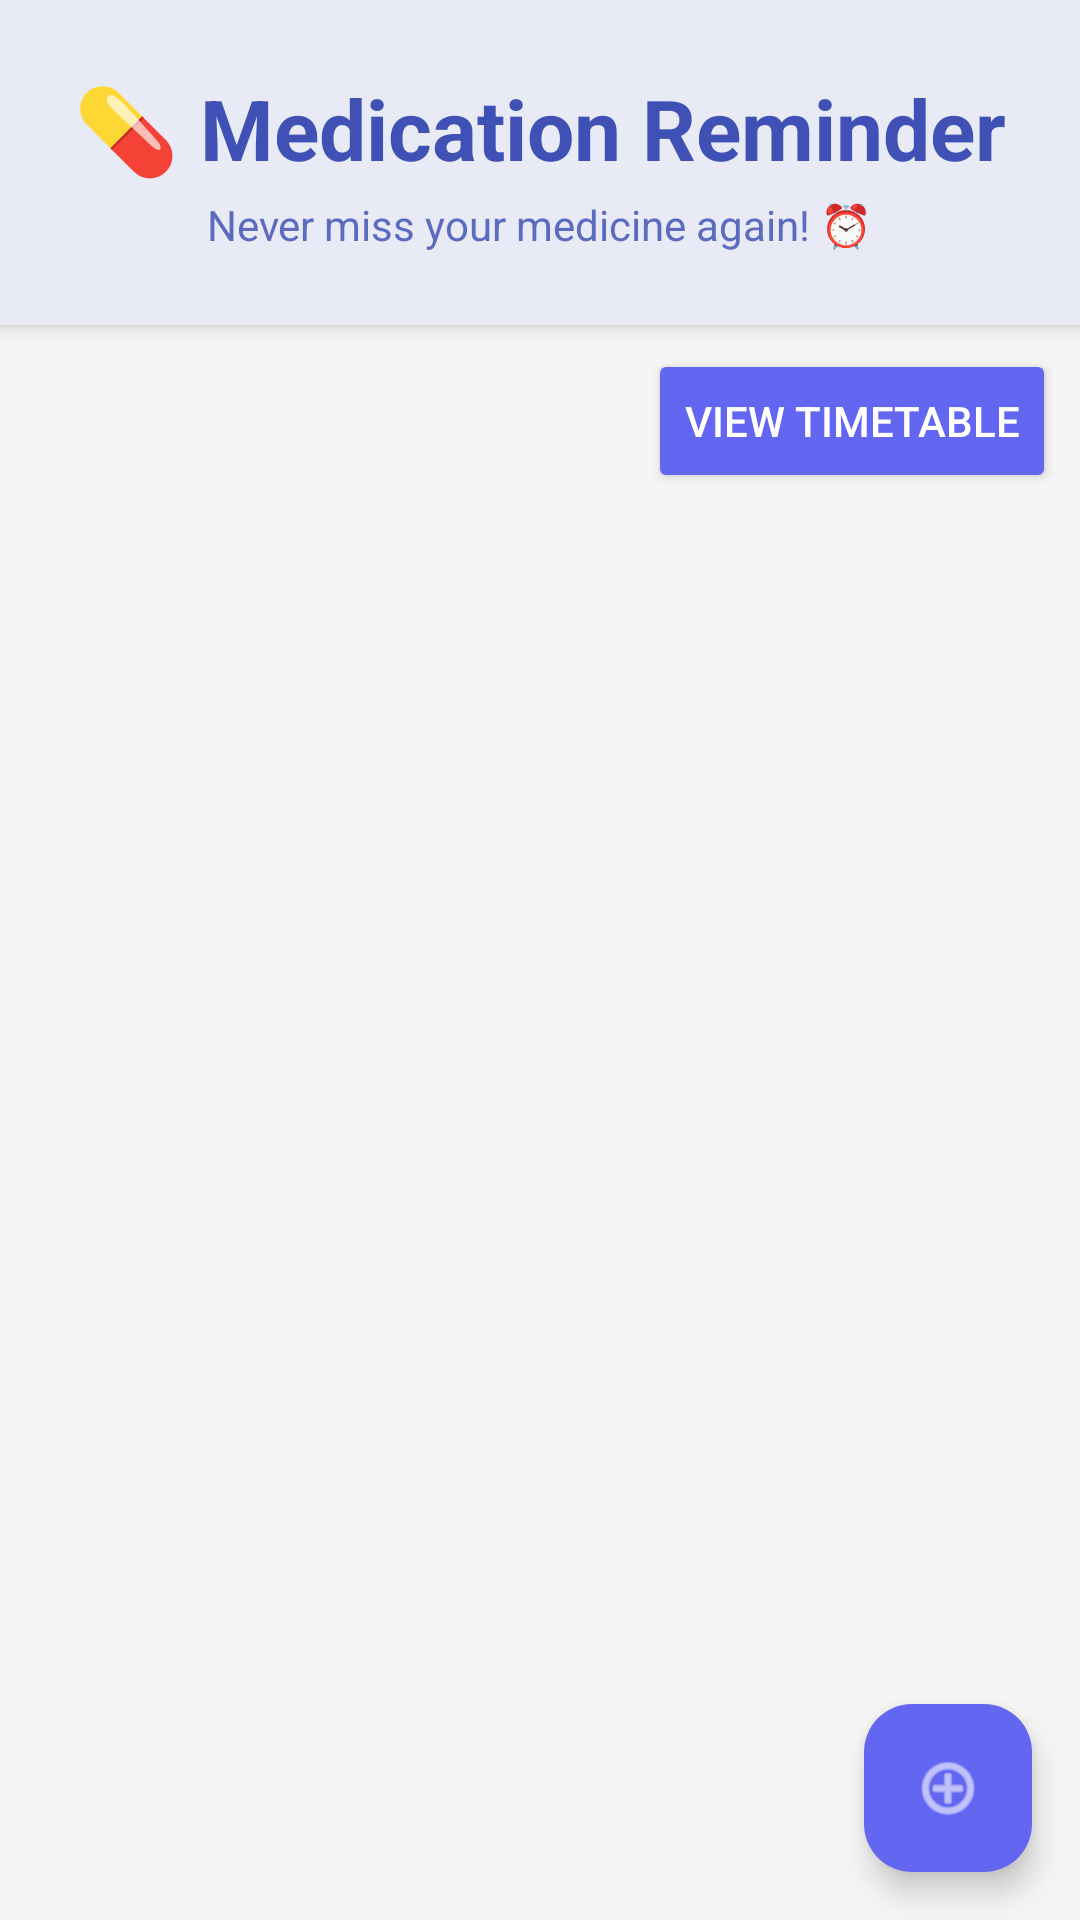

Screen size 1080×1920. Icon name, then its center in pixels as (x,y):
Add Medicine: (948,1788)
